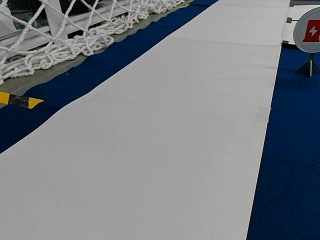battery: (294, 5, 319, 52)
